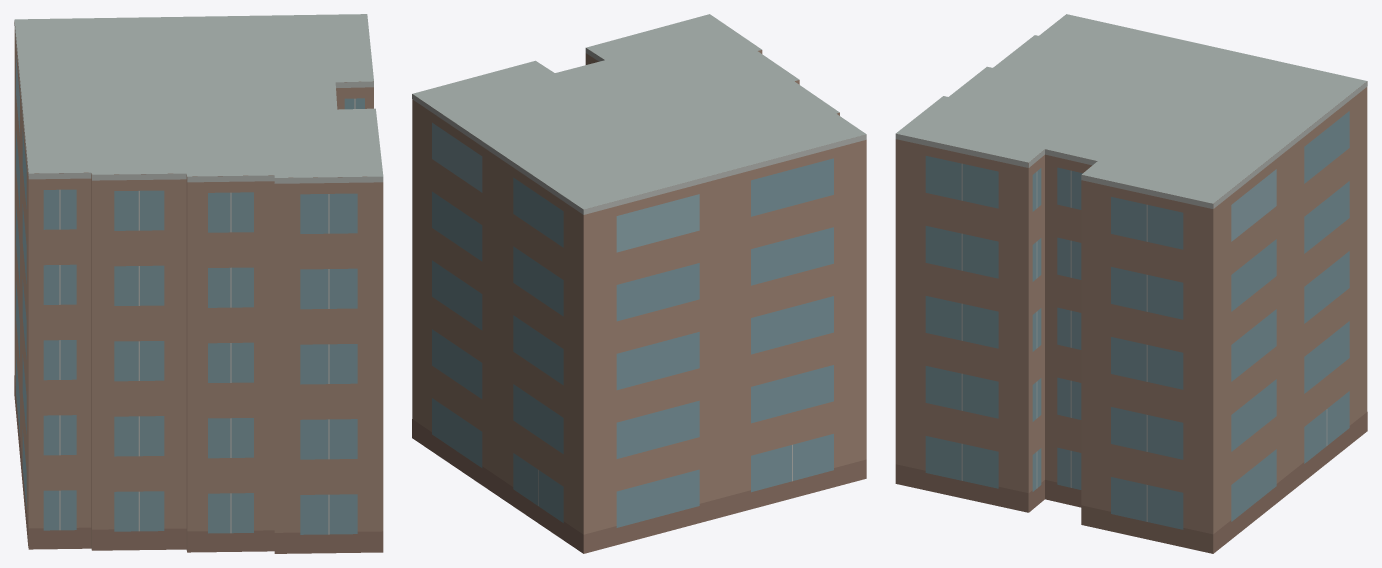
Rendered from survey-upis-32979478.glb.
3 renders of one model, left to right at view 1: azimuth 30°, elevation 25°; view 2: azimuth 150°, elevation 25°; view 3: azimuth 270°, elevation 25°, orthographic. The views are drawn at different scales.
Parts seen in each view (by area): view 1: survey-upis-32979478.tmp; view 2: survey-upis-32979478.tmp; view 3: survey-upis-32979478.tmp.
Boxes of the visible parts, x1=… form: survey-upis-32979478.tmp: x1=14, y1=14, x2=383, y2=553; survey-upis-32979478.tmp: x1=412, y1=14, x2=866, y2=553; survey-upis-32979478.tmp: x1=895, y1=14, x2=1367, y2=553.
Size of the model in its own units: 18.23 by 15.68 by 19.16.
